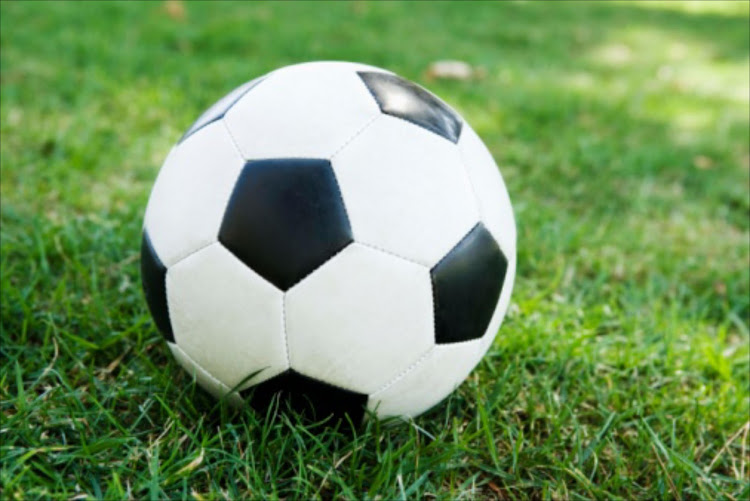soccer ball: (129, 47, 530, 445)
